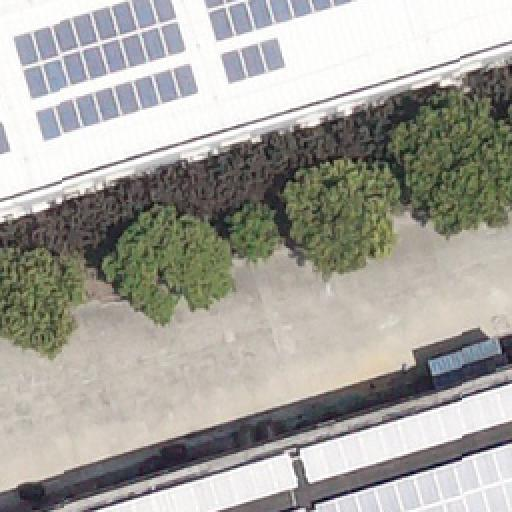solar-panel: (297, 381, 511, 483), (13, 0, 187, 100), (312, 440, 512, 512), (33, 65, 199, 143), (93, 452, 299, 512), (202, 0, 358, 44), (220, 35, 288, 85), (1, 121, 15, 159), (291, 505, 309, 511)
